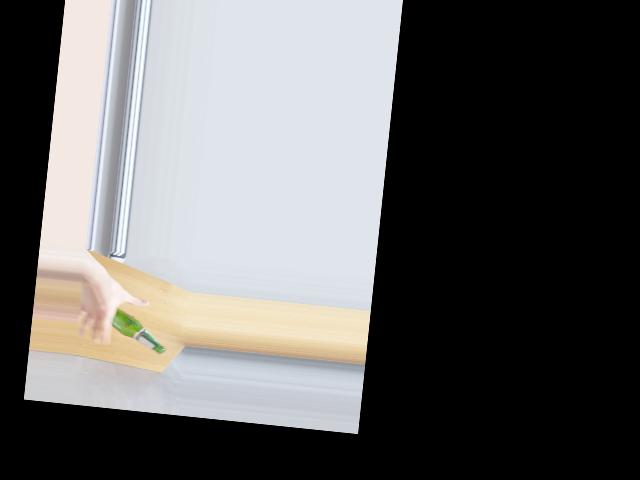beer: (109, 307, 169, 354)
